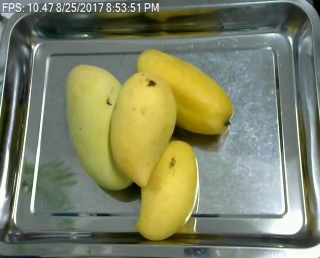Mango: (135, 47, 234, 137), (66, 63, 134, 193), (107, 72, 178, 188), (133, 140, 199, 242)
